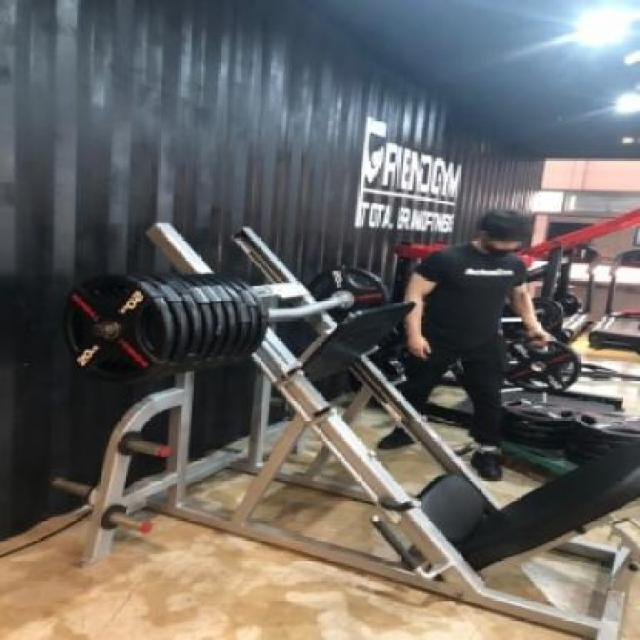leg press: (17, 197, 640, 638)
